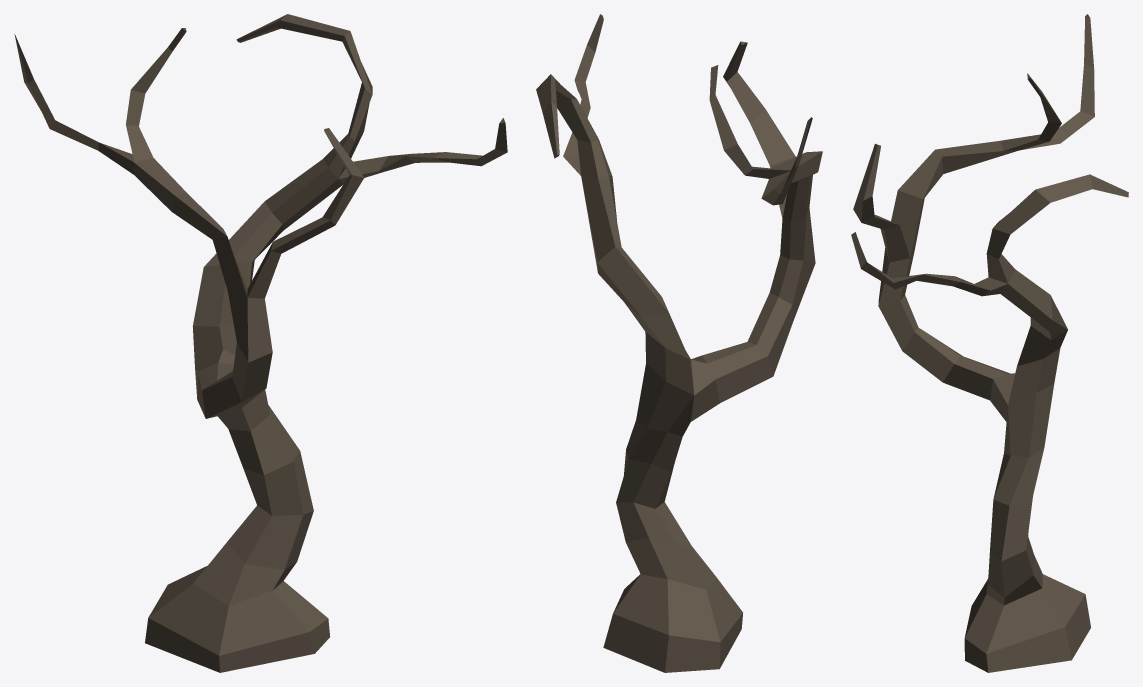
The model's file is SM_Env_Tree_Twisted_02.fbx.
The picture shows the model from 3 angles, left to right: view 1: azimuth 30°, elevation 25°; view 2: azimuth 150°, elevation 25°; view 3: azimuth 270°, elevation 25°; orthographic projection. The views are drawn at different scales.
Visible parts, largest first — view 1: SM_Env_Tree_Twisted_02; view 2: SM_Env_Tree_Twisted_02; view 3: SM_Env_Tree_Twisted_02.
Boxes of the visible parts, x1=… form: SM_Env_Tree_Twisted_02: x1=14, y1=14, x2=507, y2=672; SM_Env_Tree_Twisted_02: x1=536, y1=14, x2=822, y2=672; SM_Env_Tree_Twisted_02: x1=851, y1=14, x2=1128, y2=672.
Bounding box in the file's own units: 2.4 × 4.08 × 1.8.
